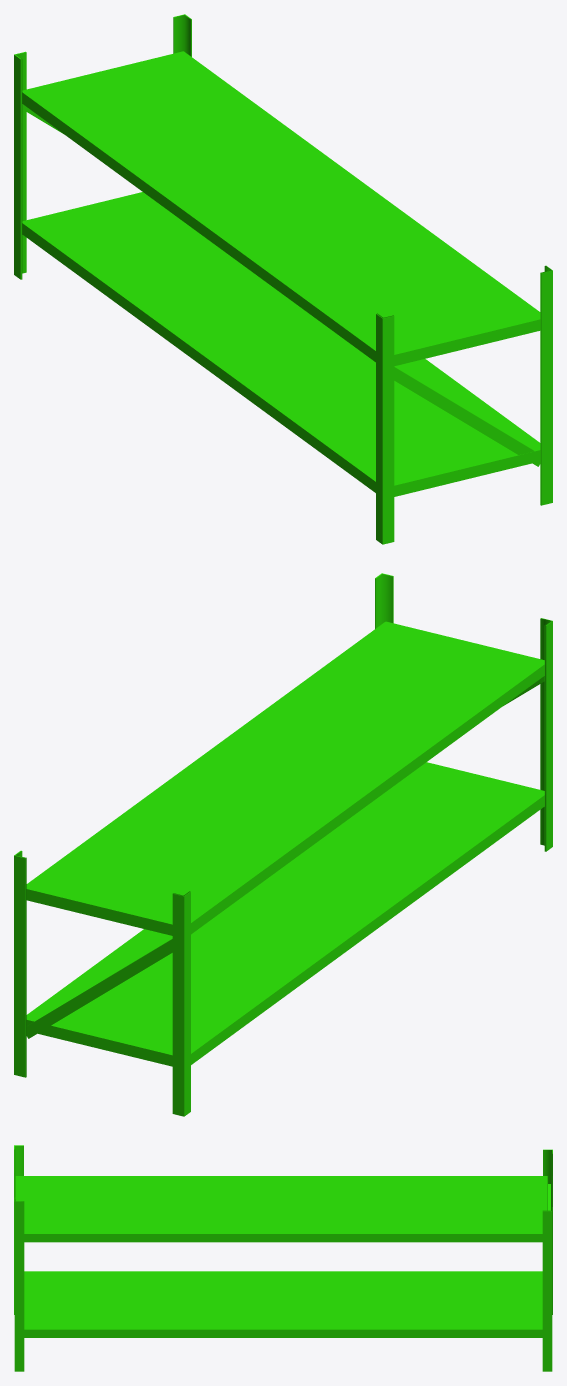
The model's file is Warehouse_Shelf_03_Lod0.fbx.
3 renders of one model, top to bottom at view 1: azimuth 30°, elevation 25°; view 2: azimuth 150°, elevation 25°; view 3: azimuth 270°, elevation 25°, orthographic. The views are drawn at different scales.
Visible parts, largest first — view 1: Warehouse_Shelf_03_Lod0; view 2: Warehouse_Shelf_03_Lod0; view 3: Warehouse_Shelf_03_Lod0.
Boxes of the visible parts, x1,y1,x2,y2 form: Warehouse_Shelf_03_Lod0: (14,14,552,544); Warehouse_Shelf_03_Lod0: (14,573,552,1116); Warehouse_Shelf_03_Lod0: (14,1145,552,1371).
Bounding box in the file's own units: 74.65 × 97.08 × 279.
